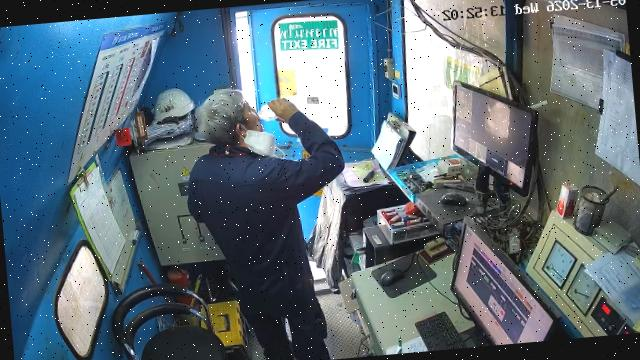Head: (195, 90, 263, 145)
People: (188, 91, 344, 359)
